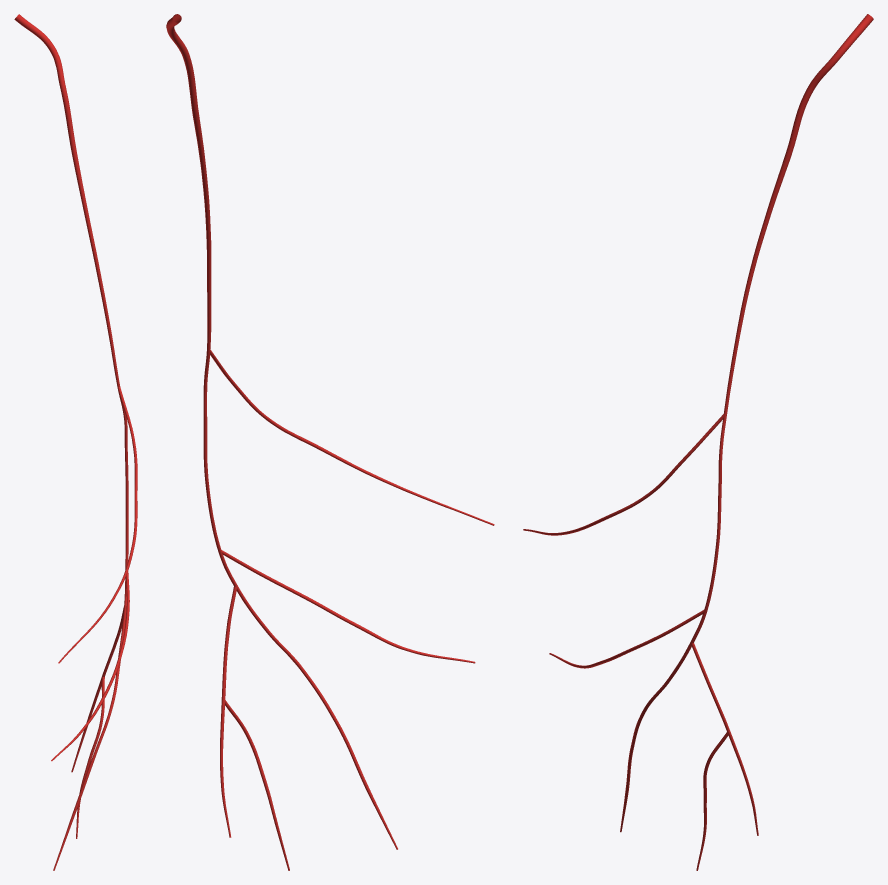
File: circulatorio-lateral-thoracic-vein-l.glb
3 renders of one model, left to right at view 1: azimuth 30°, elevation 25°; view 2: azimuth 150°, elevation 25°; view 3: azimuth 270°, elevation 25°, orthographic. The views are drawn at different scales.
Parts seen in each view (by area): view 1: Lateral thoracic vein.l; view 2: Lateral thoracic vein.l; view 3: Lateral thoracic vein.l.
Part boxes in pixels (<box>): Lateral thoracic vein.l: <box>14,14,137,870</box>; Lateral thoracic vein.l: <box>166,14,494,870</box>; Lateral thoracic vein.l: <box>523,14,873,870</box>.
Bounding box in the file's own units: 0.0723 × 0.3389 × 0.1244.
